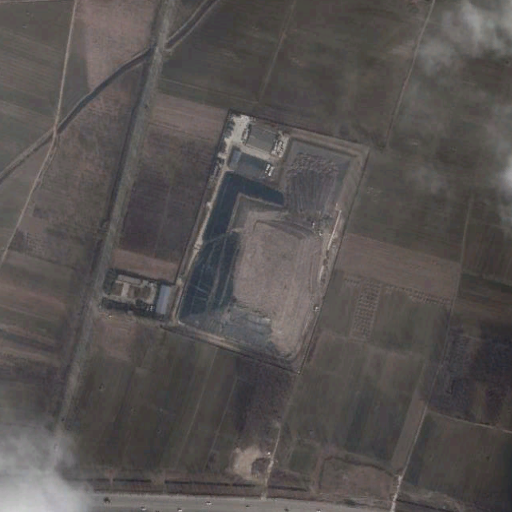lf: (169, 137, 365, 369)
